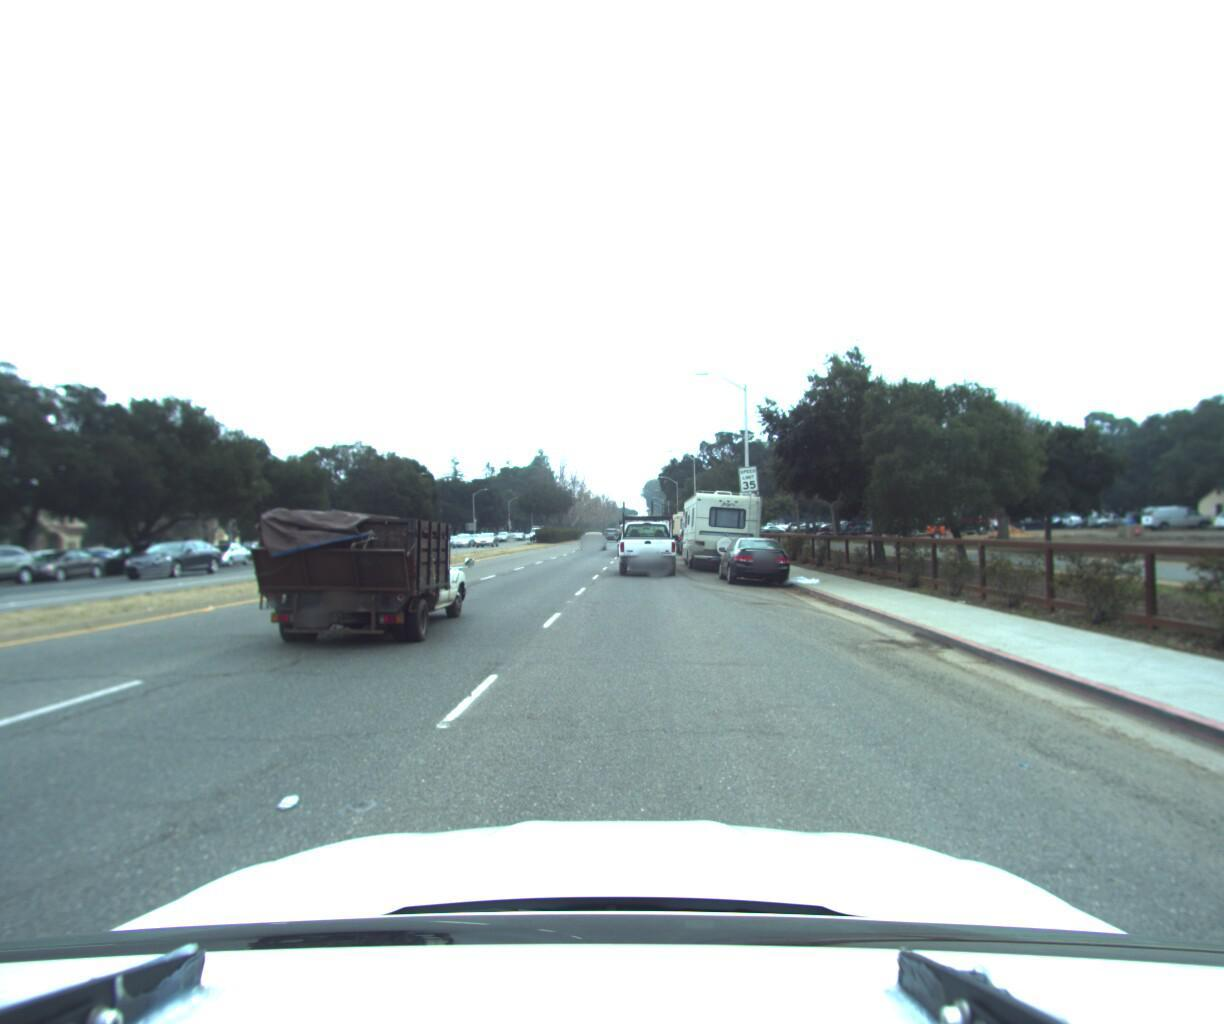car: (236, 493, 487, 654), (118, 539, 228, 582), (615, 509, 683, 575), (9, 546, 117, 586), (716, 530, 796, 581), (104, 540, 191, 576), (198, 539, 258, 567), (578, 527, 605, 546), (474, 530, 502, 545), (450, 531, 477, 546)
other_vehicle: (678, 482, 772, 568), (666, 506, 708, 546)
truck: (622, 495, 659, 546)
